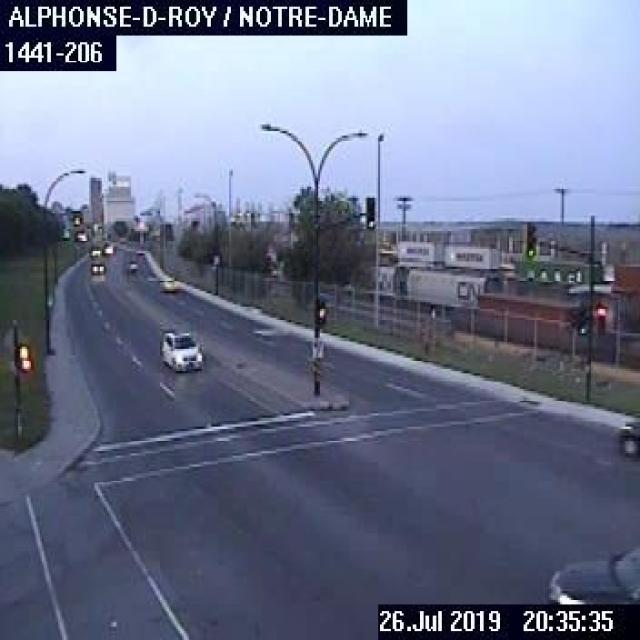vehicle: (538, 540, 638, 604), (156, 324, 204, 374), (615, 416, 638, 462), (156, 274, 174, 294), (88, 259, 104, 273), (88, 245, 102, 256), (126, 258, 136, 270), (102, 241, 112, 253)
